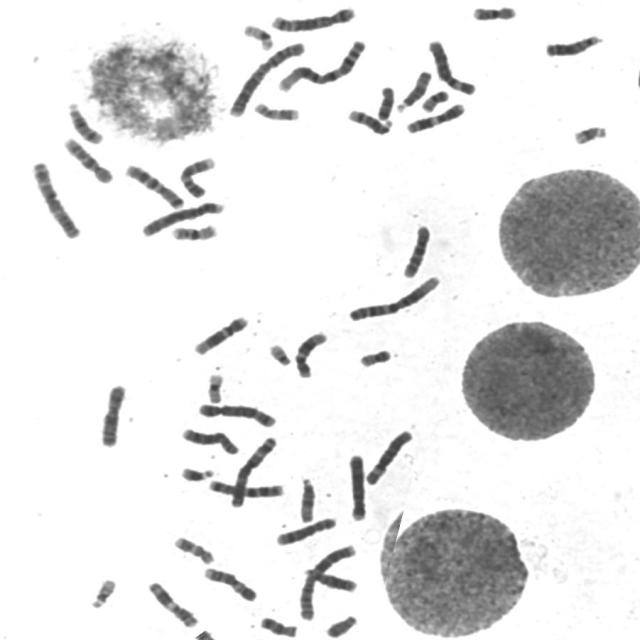A1: (273, 36, 368, 93), (344, 272, 443, 324)
A2: (225, 37, 308, 118), (294, 540, 358, 622)
A3: (27, 157, 82, 240), (226, 433, 280, 510)
B4: (138, 198, 226, 239), (344, 451, 369, 522)
B5: (268, 3, 358, 33), (195, 399, 278, 428)
C10: (59, 133, 115, 185), (398, 221, 434, 279)
C11: (144, 578, 201, 629), (402, 98, 467, 134)
C12: (190, 312, 250, 356), (291, 328, 330, 380)
C6: (361, 426, 415, 486), (425, 36, 478, 96)
C7: (121, 160, 187, 211), (204, 475, 287, 499)
C8: (272, 513, 339, 547), (178, 424, 240, 456)
C9: (200, 564, 259, 603), (176, 153, 218, 199)
D13: (541, 31, 605, 58), (302, 564, 359, 594)
D14: (63, 98, 105, 146), (344, 106, 394, 136)
D15: (393, 67, 434, 114), (296, 474, 318, 524)
E16: (167, 220, 219, 242), (469, 2, 518, 22)
E17: (170, 533, 216, 566), (250, 99, 301, 122)
E18: (256, 613, 300, 639), (374, 83, 396, 122)
F19: (239, 20, 275, 52), (203, 370, 226, 404)
F20: (418, 86, 451, 113), (356, 345, 393, 369)
G21: (570, 121, 610, 146), (177, 463, 216, 483)
G22: (86, 575, 118, 610), (265, 340, 293, 367)
X: (95, 379, 129, 448)
Y: (322, 611, 360, 639)
